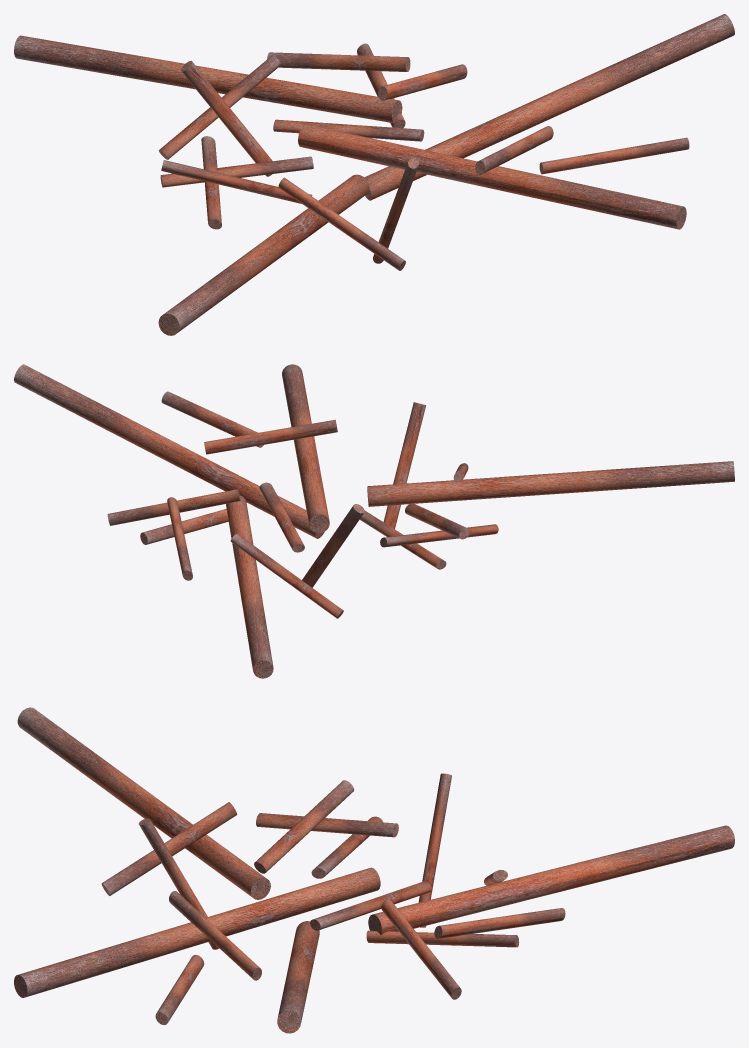
The model's file is metal(group).fbx.
The picture shows the model from 3 angles, top to bottom: view 1: azimuth 30°, elevation 25°; view 2: azimuth 150°, elevation 25°; view 3: azimuth 270°, elevation 25°; orthographic projection. The views are drawn at different scales.
Parts seen in each view (by area): view 1: metal; view 2: metal; view 3: metal.
Part boxes in pixels (box(x1,y1,x2,y2)): metal: box(14, 14, 734, 335); metal: box(14, 364, 734, 678); metal: box(14, 707, 734, 1033).
Size of the model in its own units: 45 by 8.4 by 39.65.
Materials: 1 (1 with a texture image).
